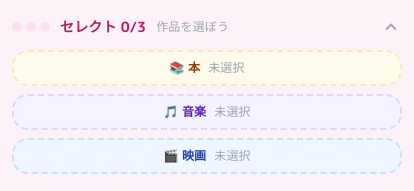
Test case: SelectionArea — モバイル折りたたみ › ヘッダークリックで展開・折りたたみをトグルできる
Click the button with aria-label "選択エリアを展開" at (207,27), box x1=12 y1=12 x2=402 y2=42
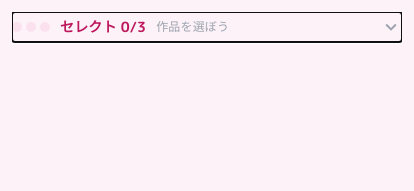
Check: the button with aria-label "選択エリアを展開" is collapsed
Click the button with aria-label "選択エリアを展開" at (207,27), box x1=12 y1=12 x2=402 y2=42
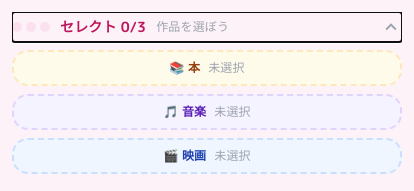
Check: the button with aria-label "選択エリアを展開" is expanded, box x1=12 y1=12 x2=402 y2=42
